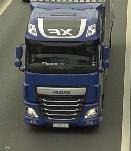truck: (17, 0, 109, 138)
